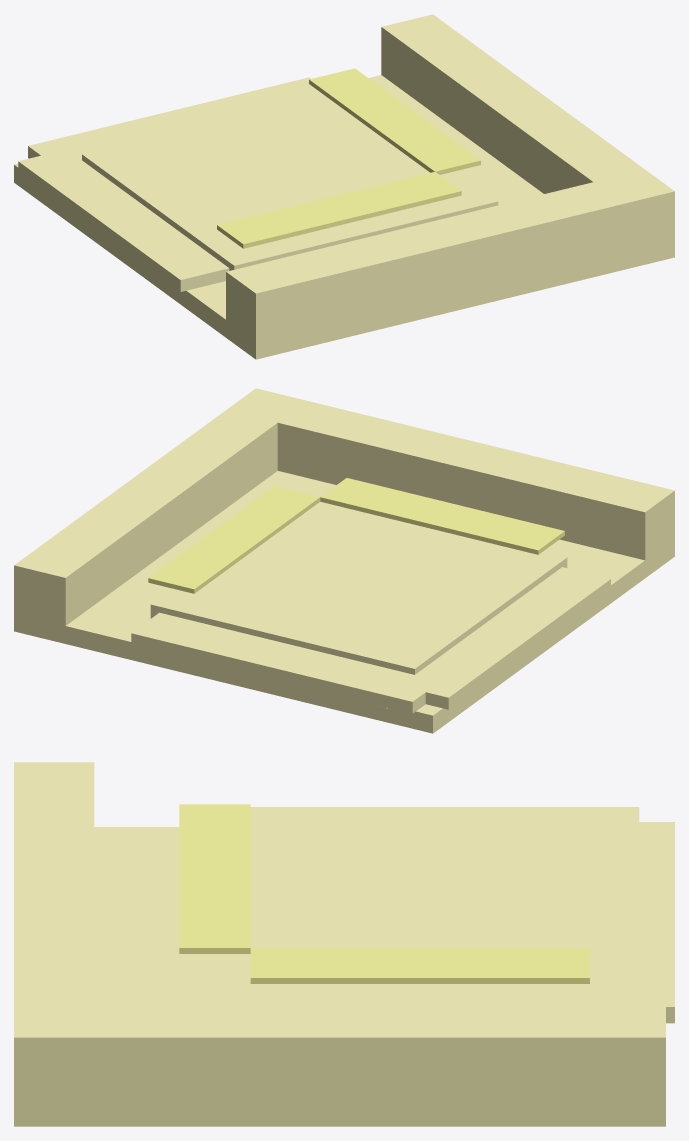
The model's file is furniture_curb_ramp_corner_module.glb.
3 views of the same model, one above another, from view 1: azimuth 30°, elevation 25°; view 2: azimuth 150°, elevation 25°; view 3: azimuth 270°, elevation 25° (orthographic). The views are drawn at different scales.
Parts seen in each view (by area): view 1: curb_wing_street, landing, curb_wing_side, base, ramp_street, ramp_side, tactile_street, tactile_side; view 2: landing, curb_wing_street, curb_wing_side, base, ramp_street, ramp_side, tactile_street, tactile_side; view 3: curb_wing_side, landing, base, curb_wing_street, ramp_side, tactile_side, tactile_street, ramp_street.
Boxes of the visible parts, x1,y1,x2,y2 form: curb_wing_street: (226, 170, 674, 346); landing: (82, 95, 498, 270); curb_wing_side: (381, 14, 674, 241); base: (14, 75, 674, 359); ramp_street: (18, 104, 261, 291); ramp_side: (28, 77, 323, 244); tactile_street: (217, 172, 461, 248); tactile_side: (309, 68, 480, 174); landing: (150, 493, 567, 674); curb_wing_street: (227, 388, 674, 565); curb_wing_side: (14, 388, 306, 629); base: (14, 471, 674, 733); ramp_street: (214, 567, 610, 709); ramp_side: (131, 612, 489, 713); tactile_street: (320, 478, 564, 554); tactile_side: (148, 486, 320, 593); curb_wing_side: (14, 1003, 665, 1110); landing: (188, 831, 598, 1003); base: (14, 827, 665, 1126); curb_wing_street: (14, 762, 94, 1110); ramp_side: (308, 822, 674, 1023); tactile_side: (250, 948, 589, 983); tactile_street: (179, 804, 250, 953); ramp_street: (250, 807, 639, 893).
Size of the model in its own units: 1.48 by 0.22 by 1.48.
